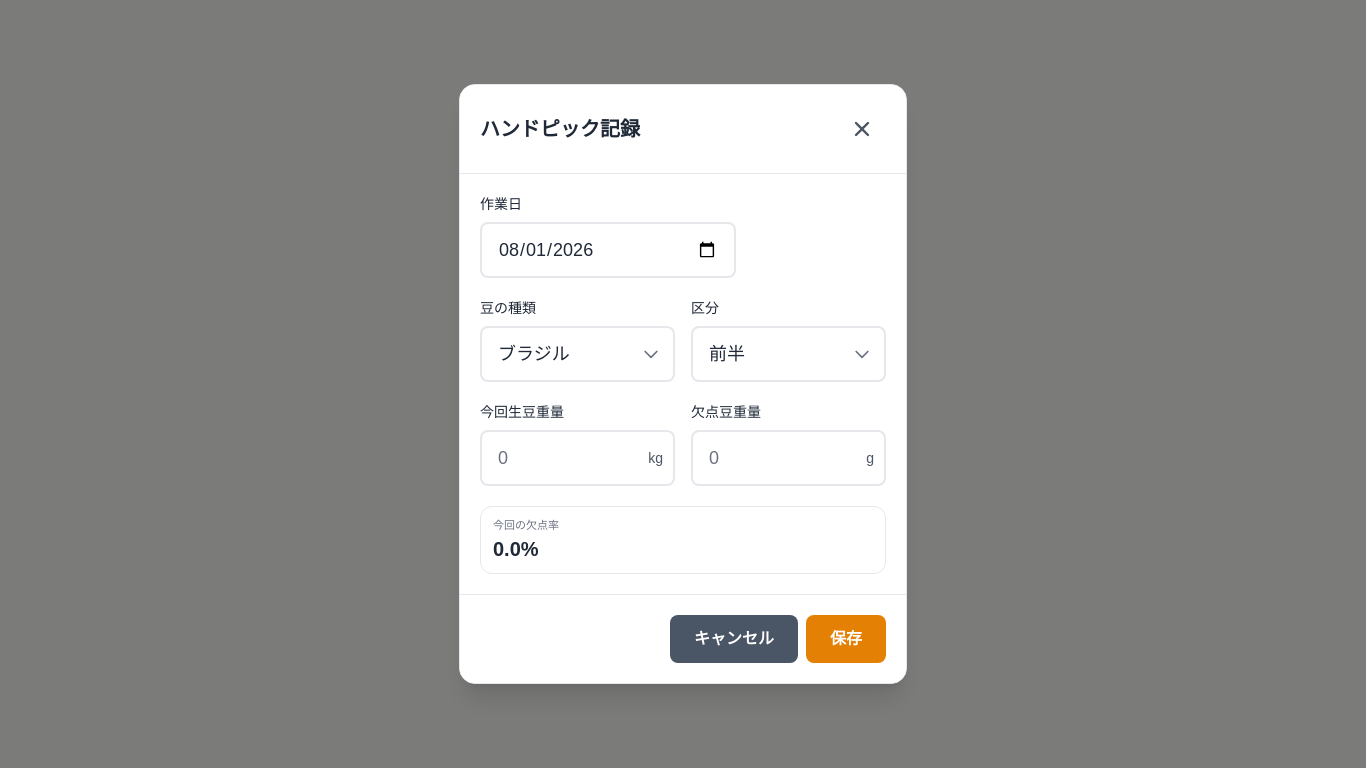
Scenario: HandpickEntryModal › 今回生豆重量が未入力だと保存できずエラーを表示する
Click the button "保存": (846, 639) left=806, top=615, right=886, bottom=663
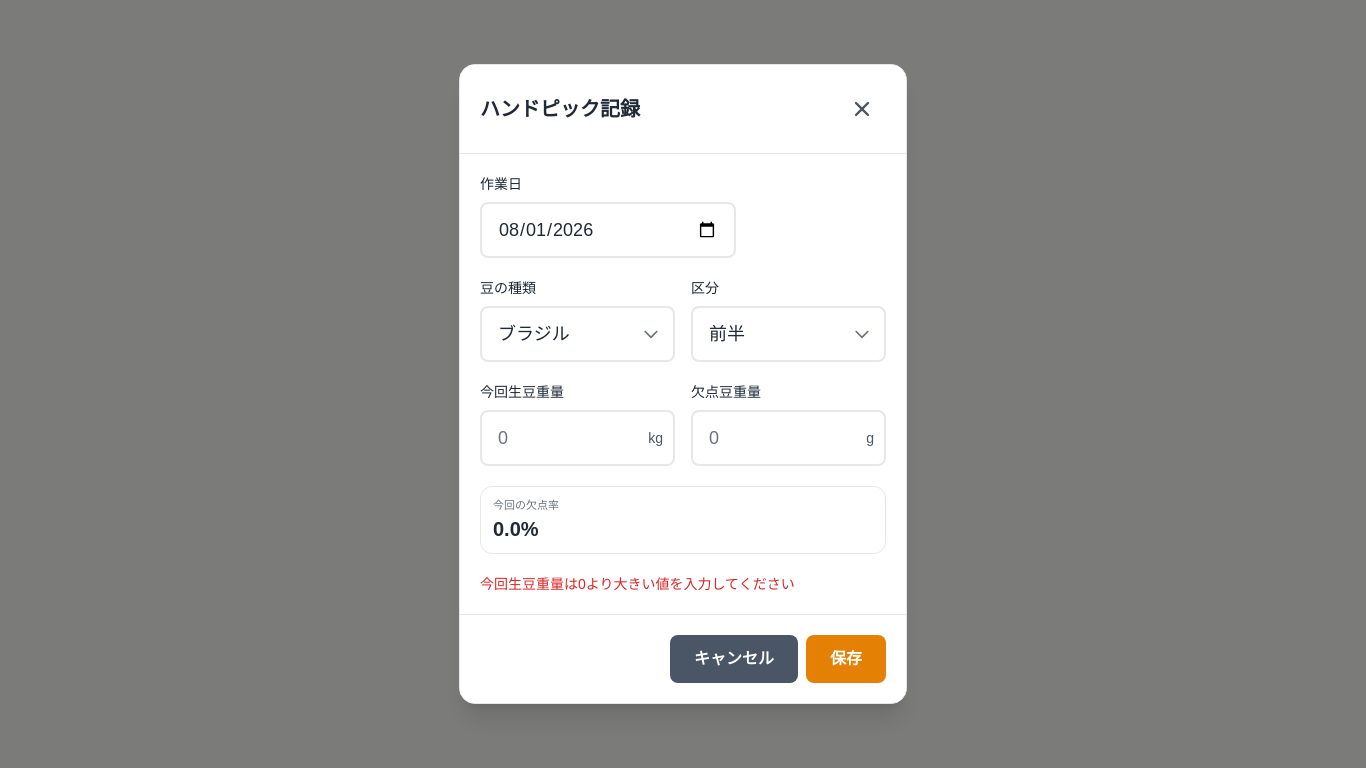
Expected: the message "今回生豆重量は0より大きい値を入力してください" is shown, left=480, top=576, right=795, bottom=592
